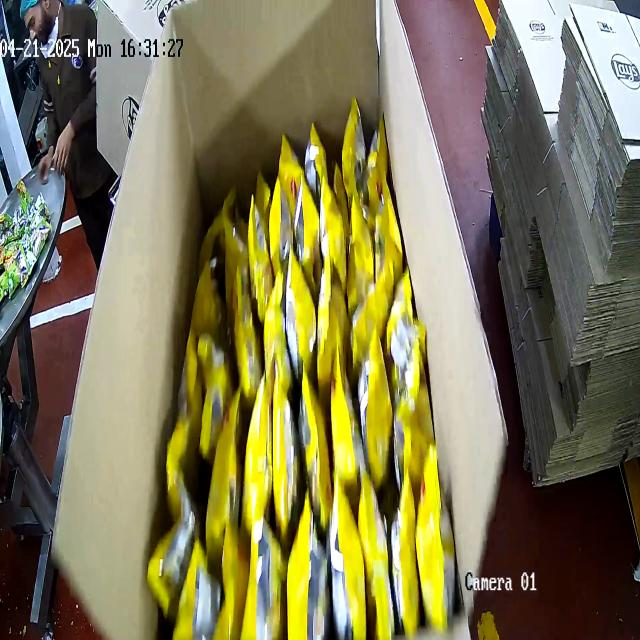SALTED: (162, 136, 453, 640)
